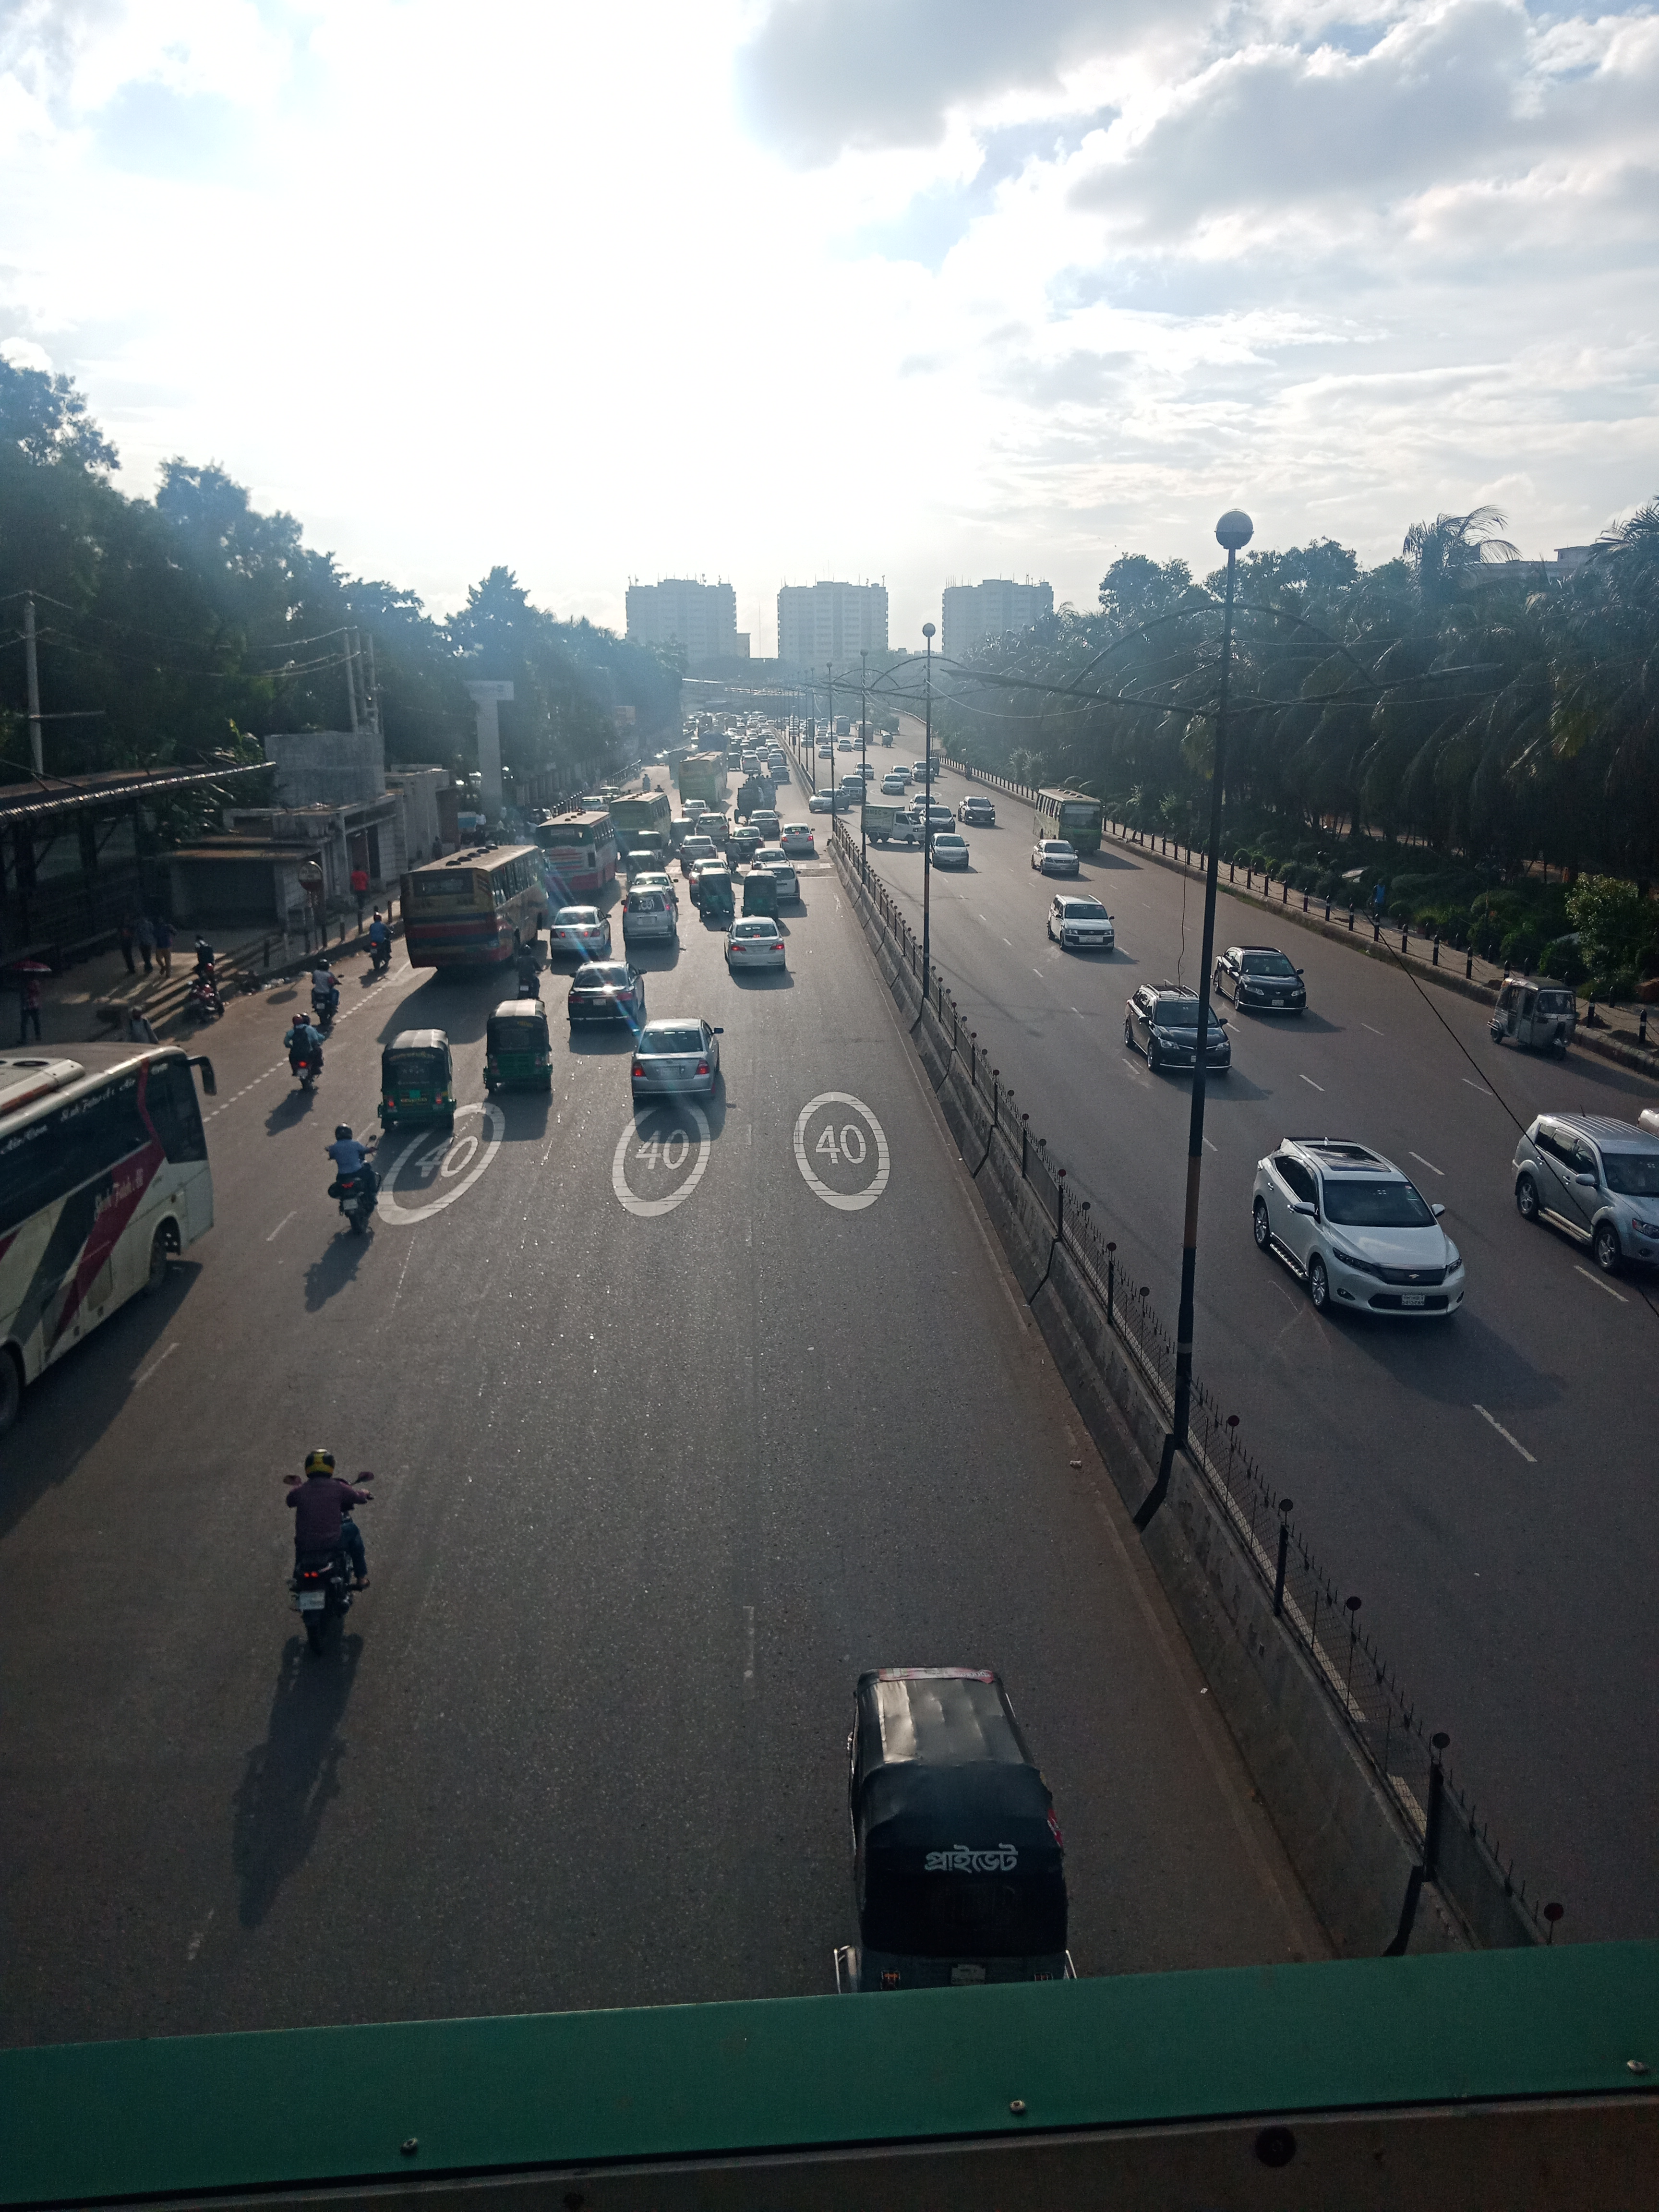bike: (274, 1468, 380, 1649), (181, 963, 237, 1029), (288, 1026, 333, 1104), (305, 977, 350, 1026), (366, 934, 397, 974)
bus: (0, 1035, 227, 1414), (401, 831, 563, 981), (545, 806, 610, 909), (1042, 792, 1114, 840)
car: (1251, 1143, 1467, 1320), (1516, 1108, 1659, 1282), (1127, 977, 1237, 1083), (634, 1022, 723, 1101), (1209, 949, 1309, 1015), (568, 960, 652, 1029), (620, 878, 681, 956), (1049, 892, 1121, 953), (727, 920, 788, 981), (559, 892, 617, 956), (779, 813, 819, 867), (929, 831, 978, 874), (1035, 833, 1080, 878), (667, 813, 713, 857)
cng: (829, 1667, 1087, 1993), (369, 1026, 460, 1139), (1492, 970, 1588, 1055), (483, 998, 549, 1097), (699, 867, 741, 927), (741, 871, 781, 913)
